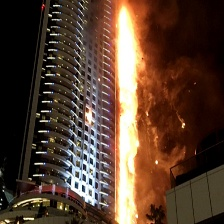fire: (113, 2, 143, 223)
